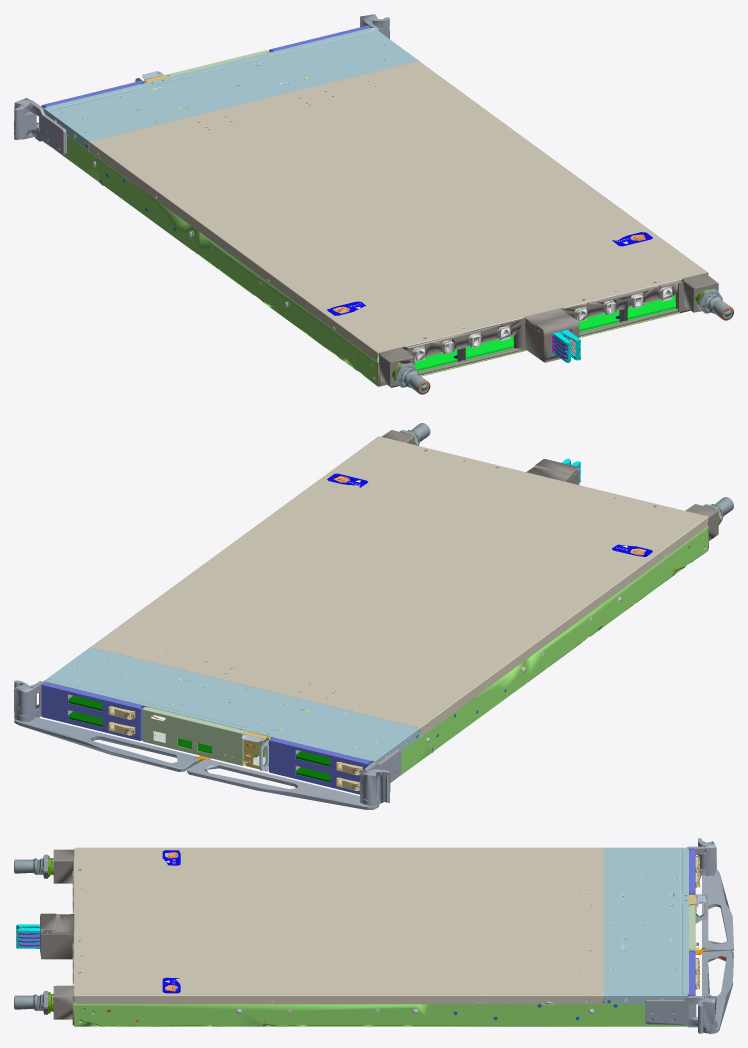
File: vera-rubin-vr-1u-20260715.mobile.glb
The picture shows the model from 3 angles, top to bottom: view 1: azimuth 30°, elevation 25°; view 2: azimuth 150°, elevation 25°; view 3: azimuth 270°, elevation 25°; orthographic projection. The views are drawn at different scales.
Visible parts, largest first — view 1: 1_TOP-COVER_VR, 1_FRONT-COVER_VR, 1_BASE-766_VR, 3_REAR-WALL_VR-TS4, PG558_SING_STRATA_0302 (×2), UQD08_PLUG_V2_DANFOSS_FXN (×2), 3_M-HANDLE-MNT-R_VR, PK42W_FLOAT_MOUNT_L_FXN, 3_REAR-BRKT-TOP_VR-TS4, PK42W_ROSALIND_FLOATING_R_FXN, 01_HPM-BUSBAR-300A_VR, 1_M-HANDLE-BARREL-R_VR; view 2: 1_TOP-COVER_VR, 1_FRONT-COVER_VR, 1_BASE-766_VR, 1_MGX-B-BAY-FRONT-PANEL_VR (×2), 1_BF4-FRONT-PANEL_VR, 3_M-HANDLE-LEVER-L_VR, 3_M-HANDLE-LEVER-R_VR, 00_TOP_GR212_STUDY_C00_1126 (×2), 1_M-HANDLE-BARREL-R_VR, 1_M-HANDLE-BARREL-L_VR, 3_REAR-BRKT-TOP_VR-TS4; view 3: 1_TOP-COVER_VR, 1_FRONT-COVER_VR, 1_BASE-766_VR, 3_M-HANDLE-LEVER-R_VR, 3_M-HANDLE-MNT-L_VR, 3_M-HANDLE-LEVER-L_VR, UQD08_PLUG_V2_DANFOSS_FXN (×2), 3_REAR-WALL_VR-TS4, PK42W_FLOAT_MOUNT_L_FXN, 3_REAR-BRKT-TOP_VR-TS4, PK42W_ROSALIND_FLOATING_R_FXN, 1_M-HANDLE-BARREL-L_VR (+2 smaller).
Part boxes in pixels (x1,y1,x2,y2): 1_TOP-COVER_VR: (89, 61, 708, 361); 1_FRONT-COVER_VR: (43, 27, 418, 150); 1_BASE-766_VR: (57, 135, 706, 386); 3_REAR-WALL_VR-TS4: (402, 280, 687, 375); PG558_SING_STRATA_0302 (×2): (412, 285, 675, 371); UQD08_PLUG_V2_DANFOSS_FXN (×2): (394, 288, 733, 394); 3_M-HANDLE-MNT-R_VR: (29, 102, 66, 154); PK42W_FLOAT_MOUNT_L_FXN: (678, 273, 718, 312); 3_REAR-BRKT-TOP_VR-TS4: (524, 308, 579, 335); PK42W_ROSALIND_FLOATING_R_FXN: (372, 347, 414, 387); 01_HPM-BUSBAR-300A_VR: (552, 329, 580, 362); 1_M-HANDLE-BARREL-R_VR: (14, 98, 36, 139); 1_TOP-COVER_VR: (90, 436, 708, 736); 1_FRONT-COVER_VR: (43, 647, 419, 763); 1_BASE-766_VR: (392, 525, 708, 781); 1_MGX-B-BAY-FRONT-PANEL_VR (×2): (41, 682, 372, 794); 1_BF4-FRONT-PANEL_VR: (142, 707, 246, 765); 3_M-HANDLE-LEVER-L_VR: (14, 717, 197, 771); 3_M-HANDLE-LEVER-R_VR: (187, 758, 379, 809); 00_TOP_GR212_STUDY_C00_1126 (×2): (68, 649, 402, 782); 1_M-HANDLE-BARREL-R_VR: (360, 769, 390, 806); 1_M-HANDLE-BARREL-L_VR: (14, 680, 36, 721); 3_REAR-BRKT-TOP_VR-TS4: (526, 459, 579, 481); 1_TOP-COVER_VR: (73, 847, 604, 1004); 1_FRONT-COVER_VR: (604, 847, 688, 1004); 1_BASE-766_VR: (74, 999, 686, 1026); 3_M-HANDLE-LEVER-R_VR: (702, 867, 733, 950); 3_M-HANDLE-MNT-L_VR: (645, 996, 704, 1027); 3_M-HANDLE-LEVER-L_VR: (702, 950, 733, 1033); UQD08_PLUG_V2_DANFOSS_FXN (×2): (14, 854, 53, 1014); 3_REAR-WALL_VR-TS4: (40, 869, 94, 1013); PK42W_FLOAT_MOUNT_L_FXN: (53, 985, 85, 1025); 3_REAR-BRKT-TOP_VR-TS4: (40, 913, 74, 934); PK42W_ROSALIND_FLOATING_R_FXN: (53, 849, 74, 883); 1_M-HANDLE-BARREL-L_VR: (698, 996, 717, 1033).
Size of the model in its own units: 0.4971 by 0.0437 by 0.8991.
